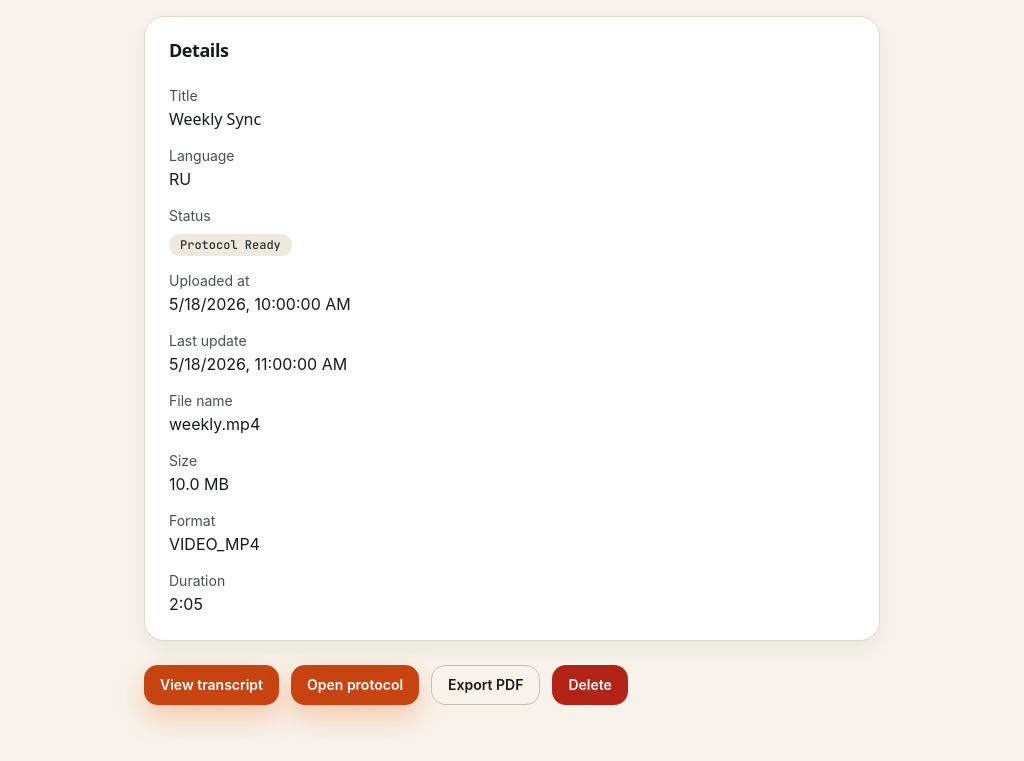
MeetingDetailPage › UC-003: cancel delete closes dialog without navigating
This screenshot has width=1024, height=761.
(page scrolled)
Click the button with test id "btn-delete": (590, 685) [552, 665, 628, 705]
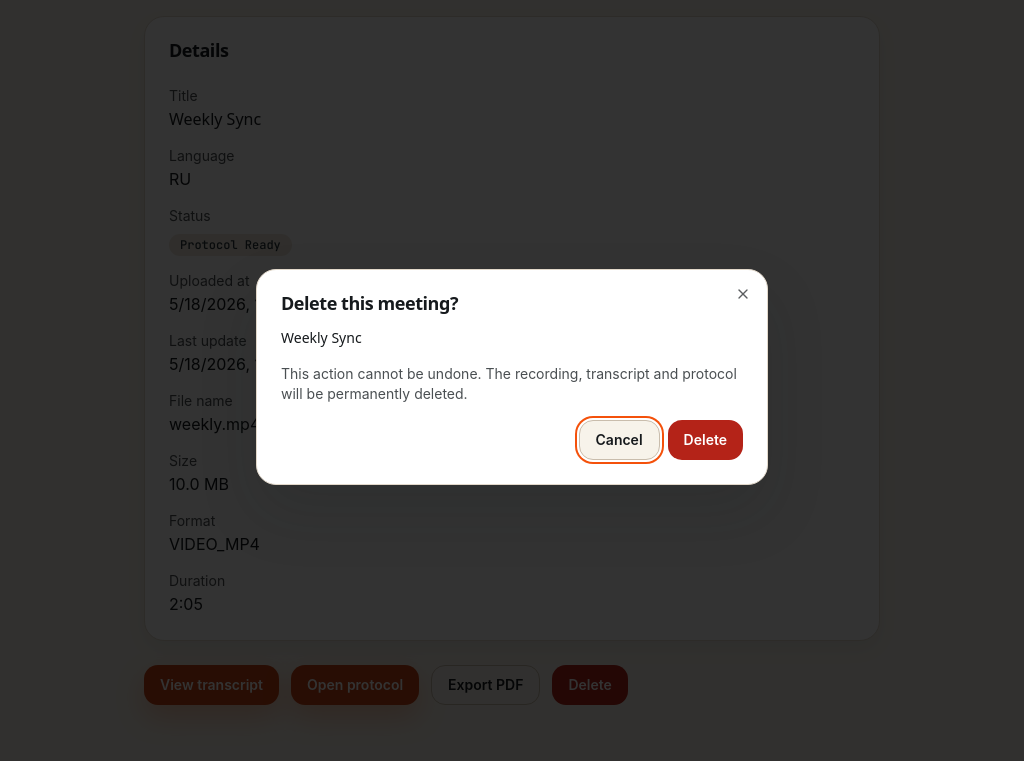
Now the dialog with test id "delete-confirm-dialog" is shown, box [256, 269, 768, 485]
Click the button with test id "btn-delete-cancel": (619, 440) [578, 420, 660, 460]
(page scrolled)
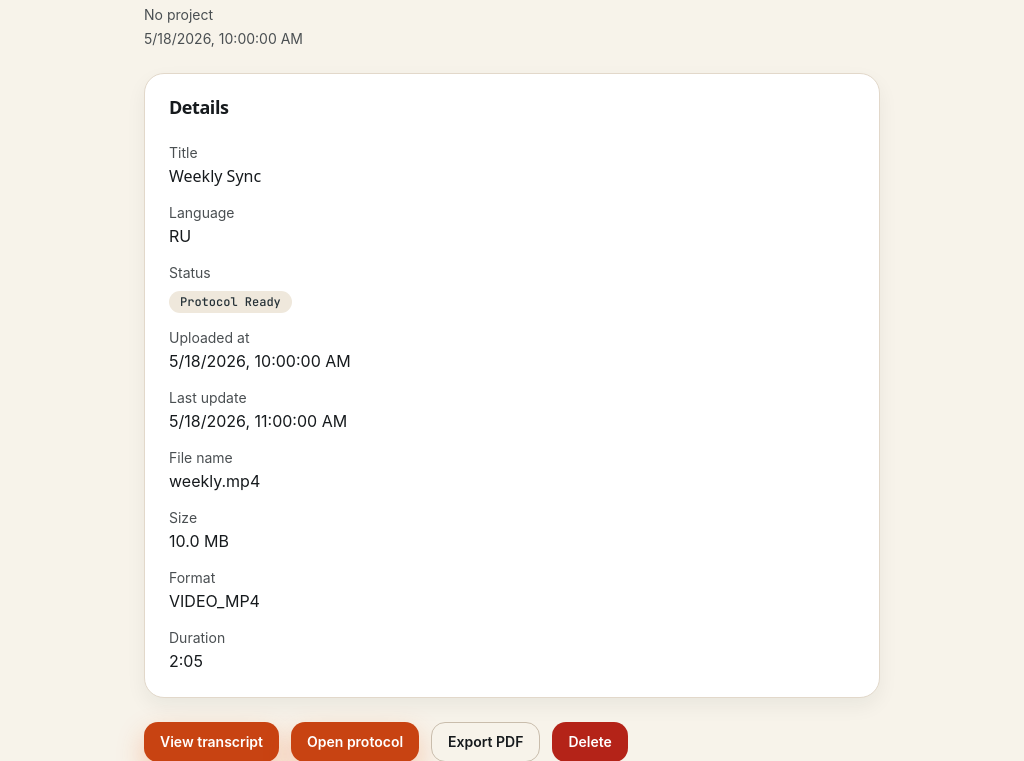
Now the dialog with test id "delete-confirm-dialog" is gone
